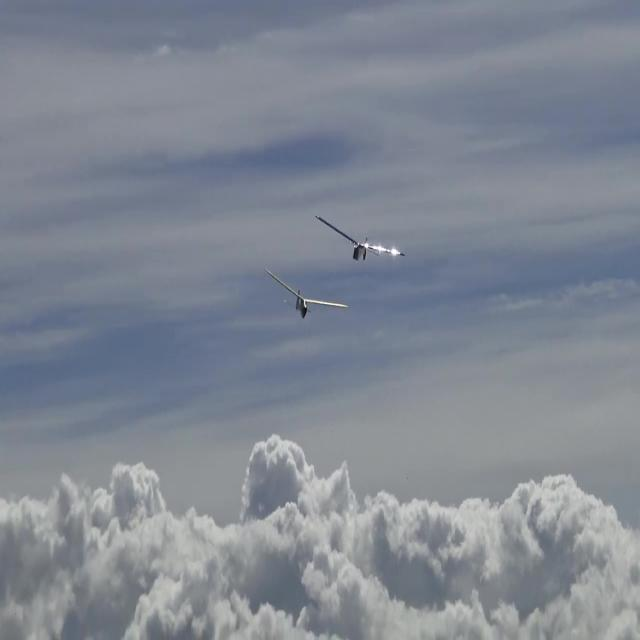iha: (347, 213, 373, 261), (295, 267, 317, 320)
